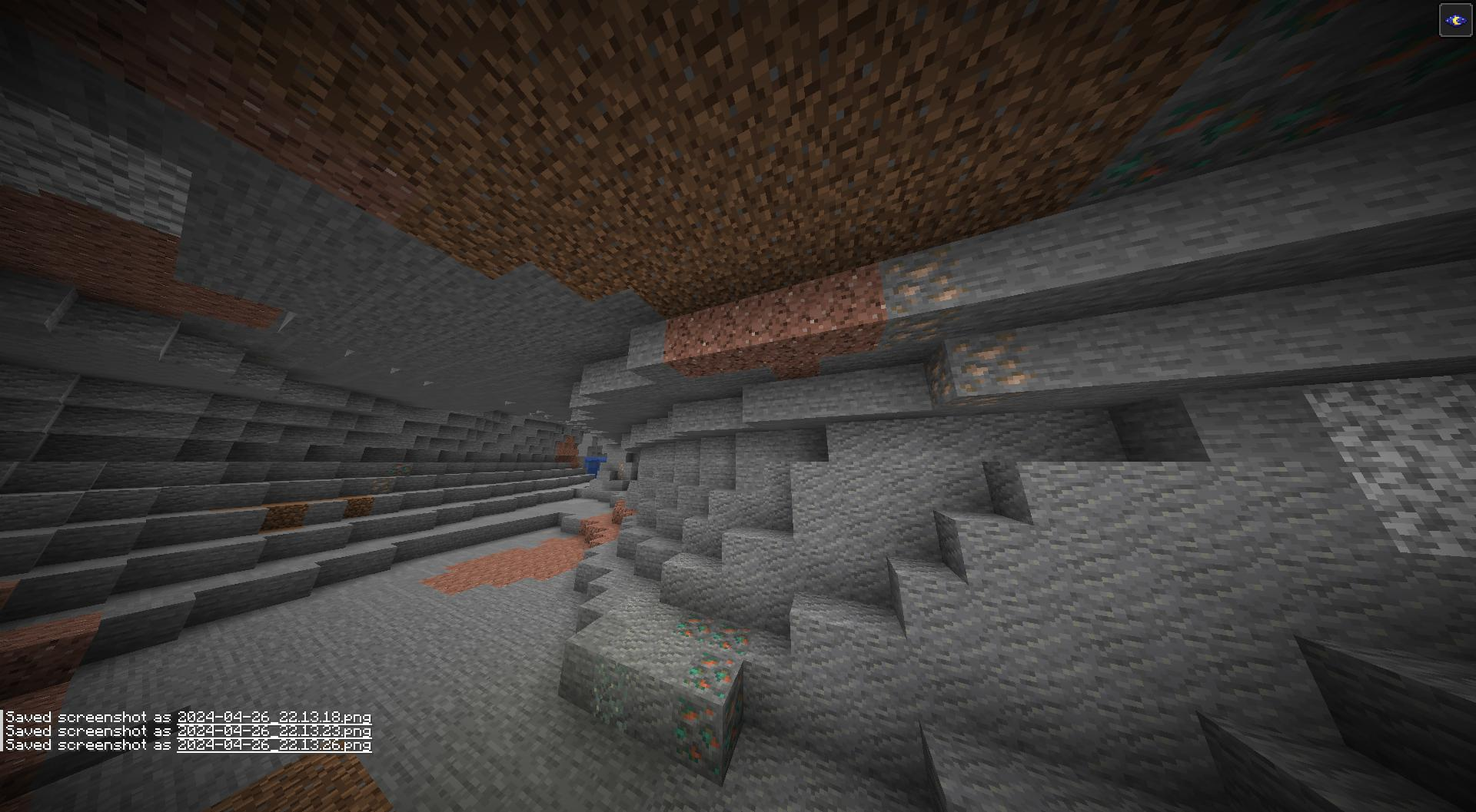iron ore: (928, 330, 1027, 409), (876, 246, 960, 337)
